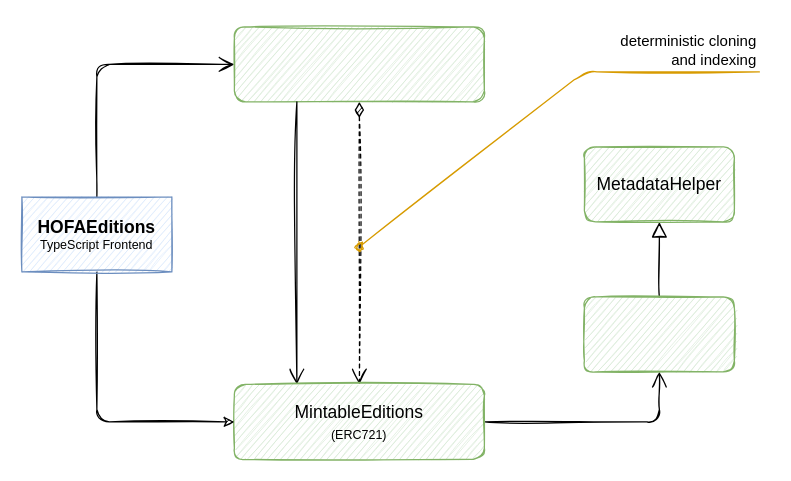
This 791x481 diagram has some shape labels left out. The box of each missing label's shape, as (x1, y1, x2, y2) in pixels:
EditionsMetadata: (583, 296, 734, 372)
MintableEditionsFactory: (233, 26, 484, 102)
